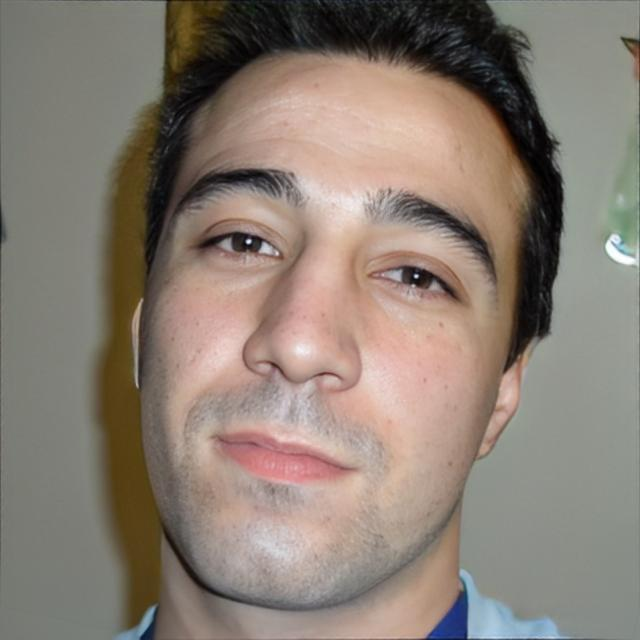content: (137, 46, 536, 612)
